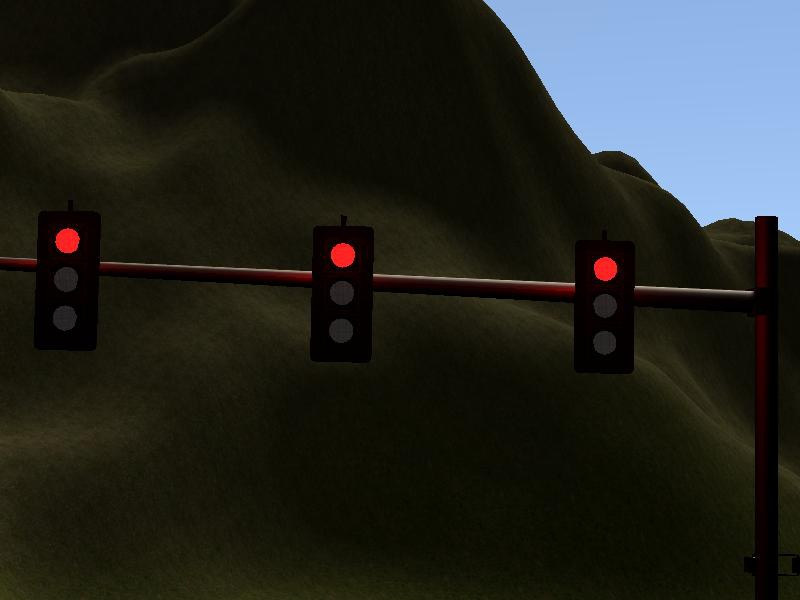red: (309, 216, 371, 363), (37, 201, 96, 351), (573, 229, 633, 376)
